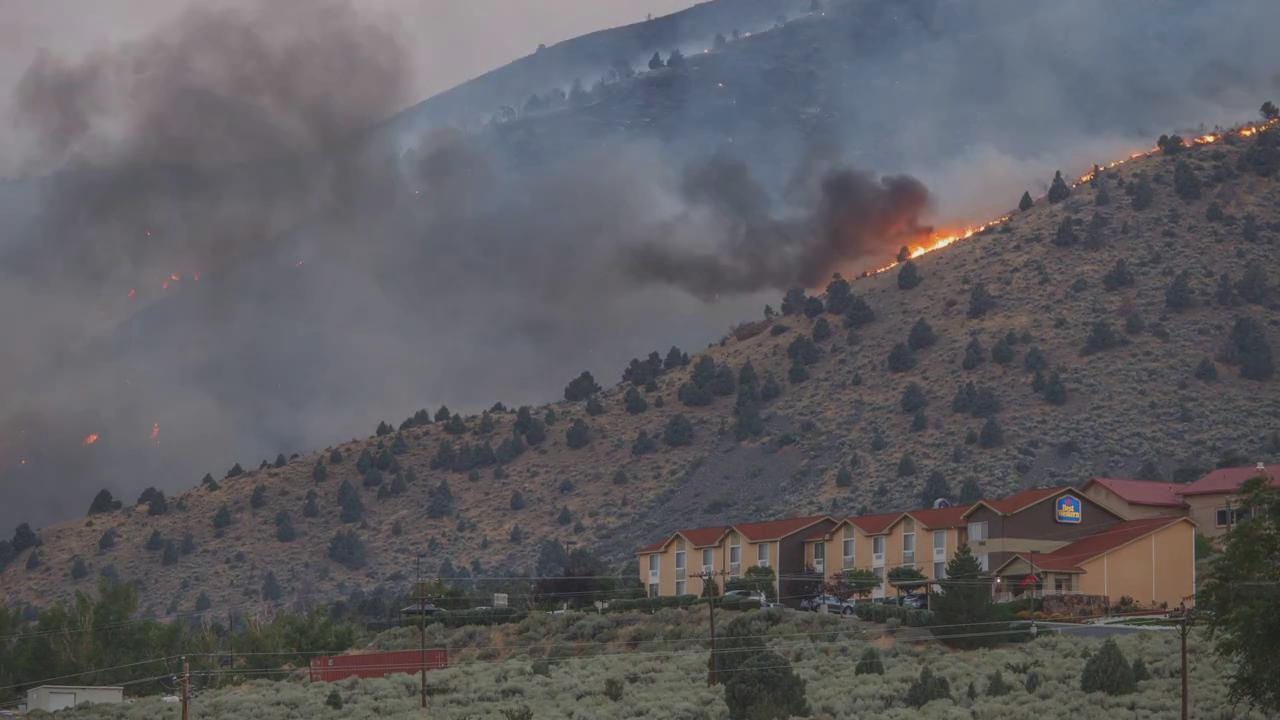smoke: (180, 160, 501, 397), (923, 17, 1277, 139), (673, 169, 923, 306), (513, 179, 661, 321)
